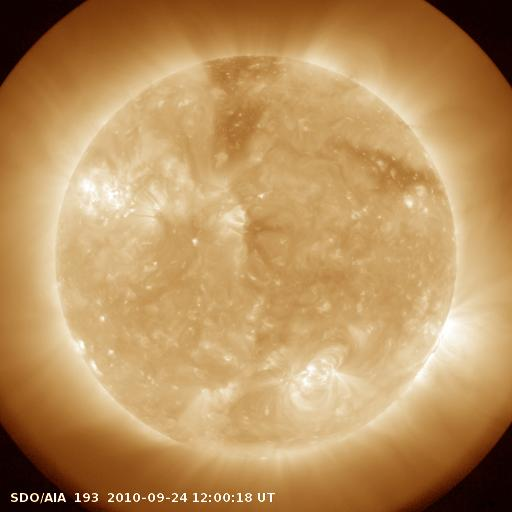coronal_hole: (201, 48, 284, 162), (347, 141, 448, 196)
